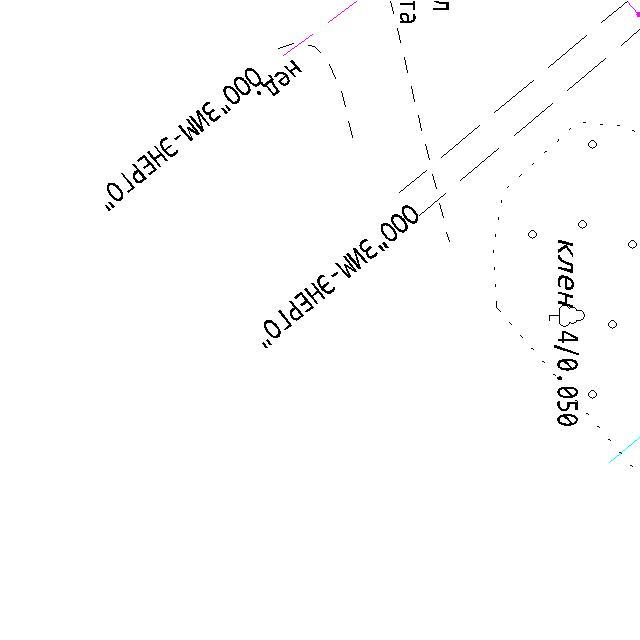tree: (547, 302, 586, 328)
